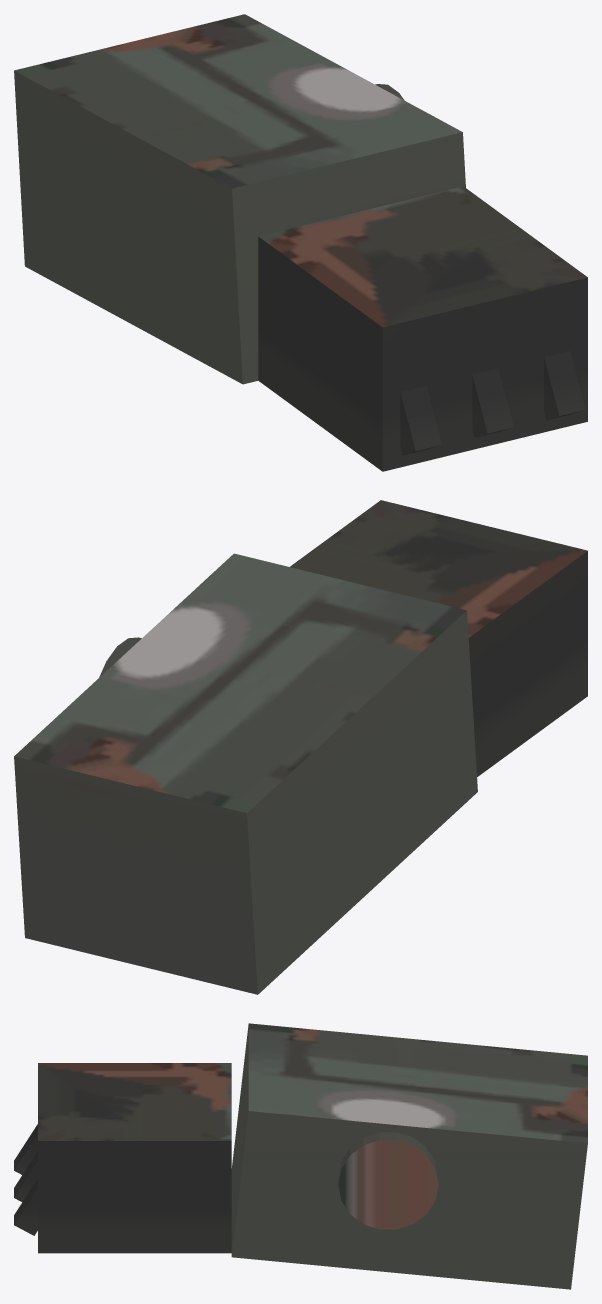
The model's file is Building_AncientWarwalkerClaw.glb.
3 renders of one model, top to bottom at view 1: azimuth 30°, elevation 25°; view 2: azimuth 150°, elevation 25°; view 3: azimuth 270°, elevation 25°, orthographic. The views are drawn at different scales.
Visible parts, largest first — view 1: AncientWarwalkerClaw; view 2: AncientWarwalkerClaw; view 3: AncientWarwalkerClaw.
Boxes of the visible parts, bbox=[...] form: AncientWarwalkerClaw: bbox=[14, 14, 587, 471]; AncientWarwalkerClaw: bbox=[14, 500, 587, 994]; AncientWarwalkerClaw: bbox=[14, 1023, 587, 1289].
Size of the model in its own units: 0.7656 by 0.6678 by 1.95.
1 material, 1 textured.
